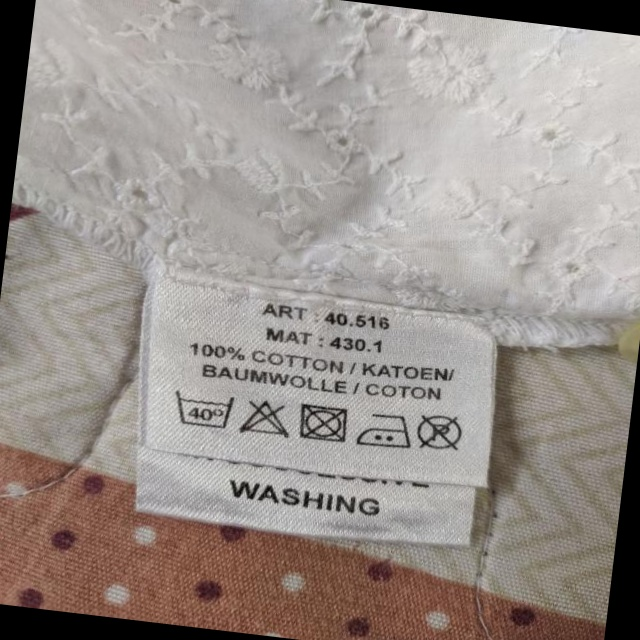40C: (173, 386, 237, 432)
DN_bleach: (236, 393, 292, 441)
DN_dry_clean: (414, 410, 467, 455)
DN_tumble_dry: (294, 401, 350, 448)
iron_medium: (355, 409, 414, 453)
